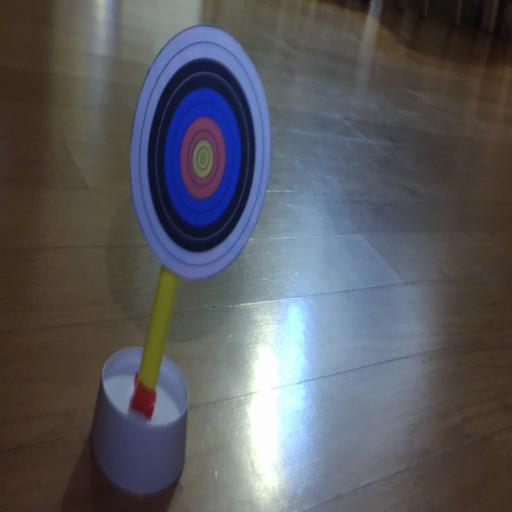target: (130, 25, 271, 278)
